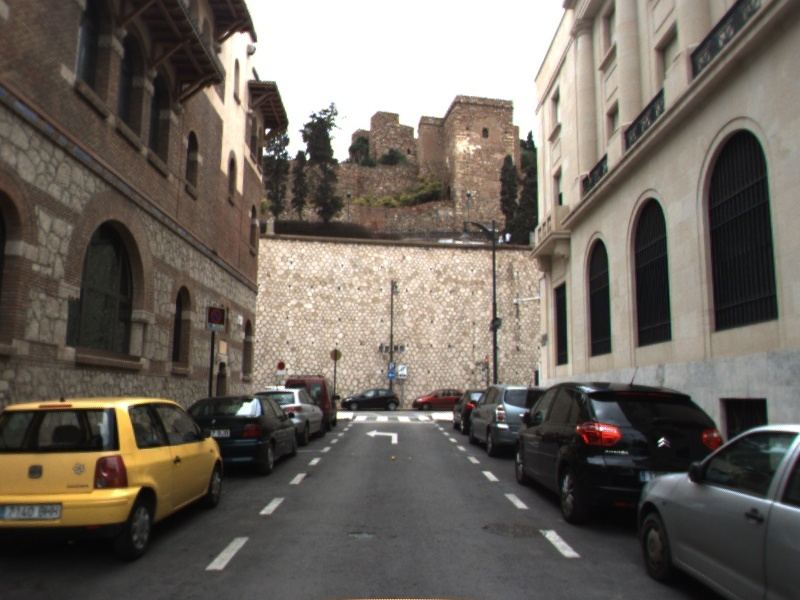LEFT: (364, 427, 400, 446)
